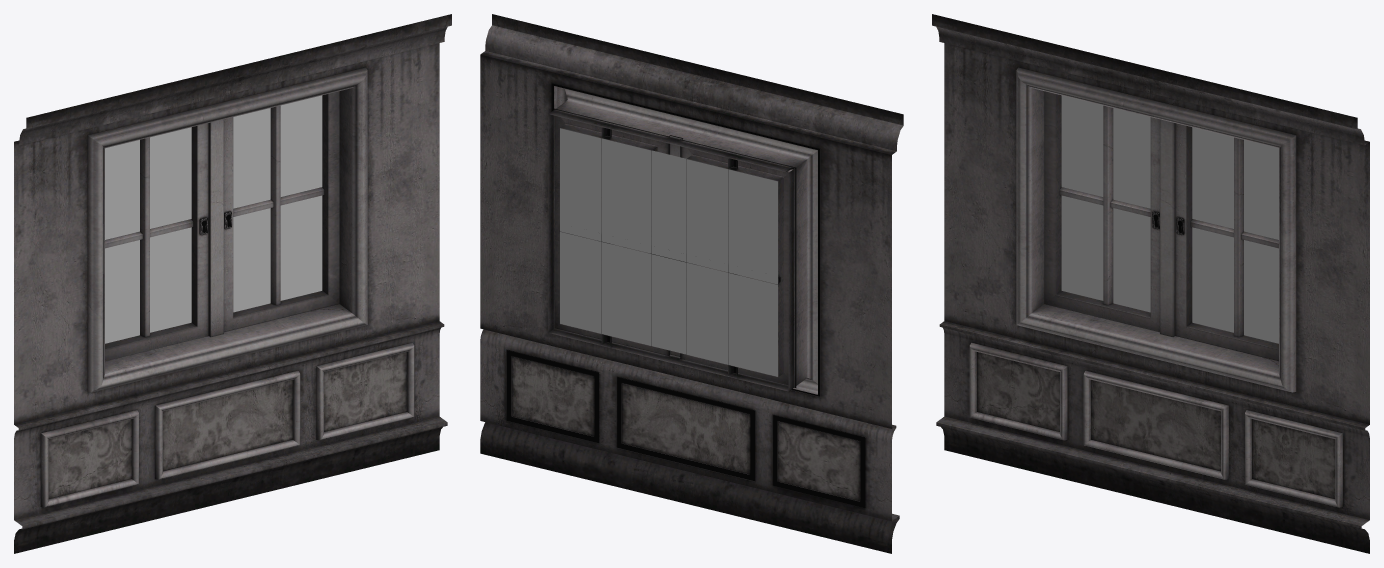
File: 42_mirror.dae
3 renders of one model, left to right at view 1: azimuth 30°, elevation 25°; view 2: azimuth 150°, elevation 25°; view 3: azimuth 330°, elevation 25°, orthographic. The views are drawn at different scales.
Parts seen in each view (by area): view 1: mansionbase_wall_window1, mansionbase_wall_windowglass; view 2: mansionbase_wall_window1, mansionbase_wall_windowglass; view 3: mansionbase_wall_window1, mansionbase_wall_windowglass.
Part boxes in pixels (x1,y1,x2,y2): mansionbase_wall_window1: [14, 14, 451, 553]; mansionbase_wall_windowglass: [105, 95, 322, 343]; mansionbase_wall_window1: [480, 14, 903, 553]; mansionbase_wall_windowglass: [560, 128, 777, 376]; mansionbase_wall_window1: [932, 14, 1369, 553]; mansionbase_wall_windowglass: [1061, 95, 1278, 343].
Bounding box in the file's own units: 4 × 4 × 0.4944.
